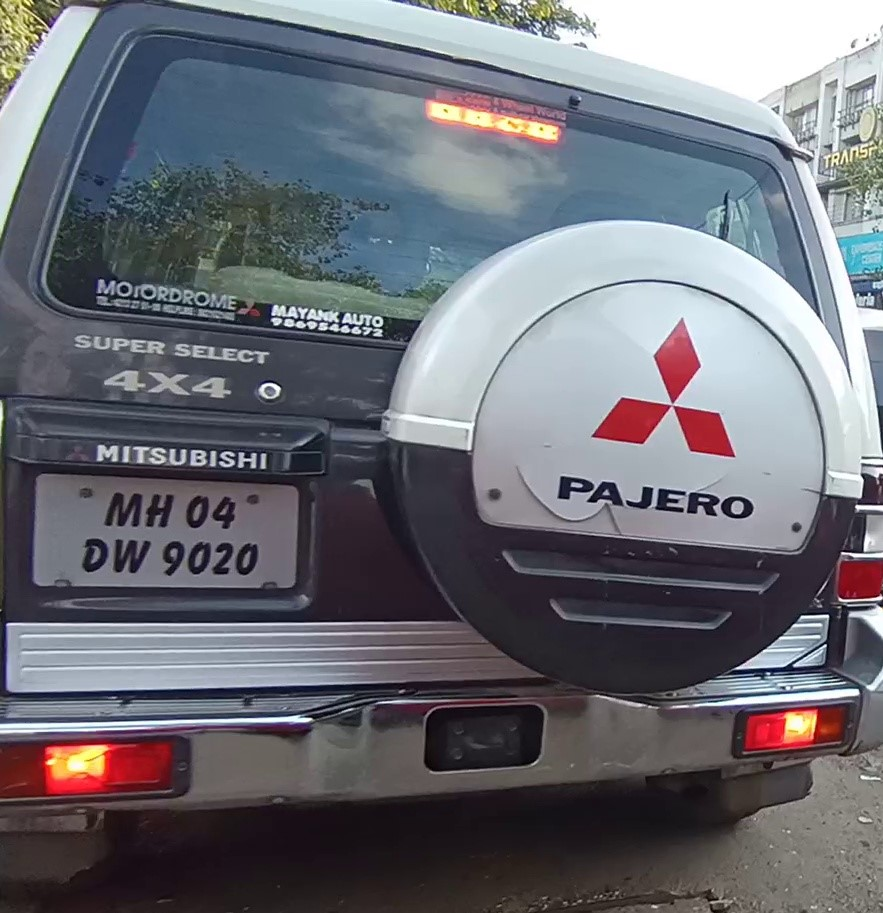MH04DW9020: (30, 468, 298, 594)
